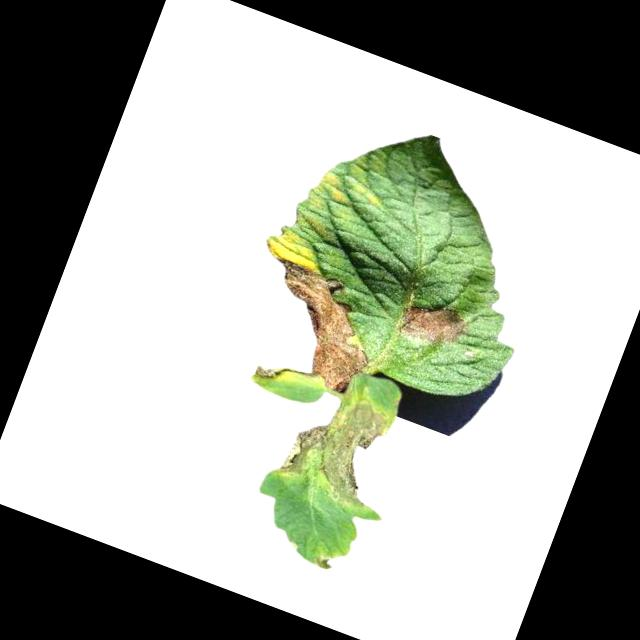Late_blight: (245, 251, 393, 399), (271, 377, 403, 516), (395, 294, 470, 357), (253, 355, 295, 389), (310, 546, 340, 573)
